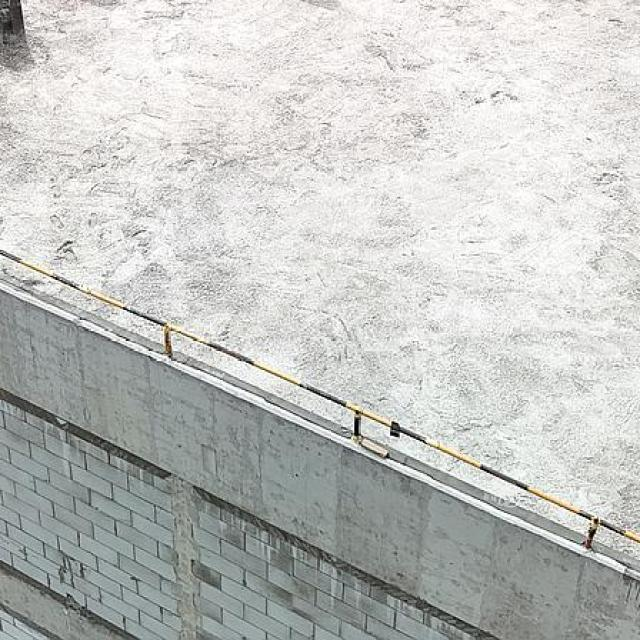Guardrail: (0, 248, 640, 551)
